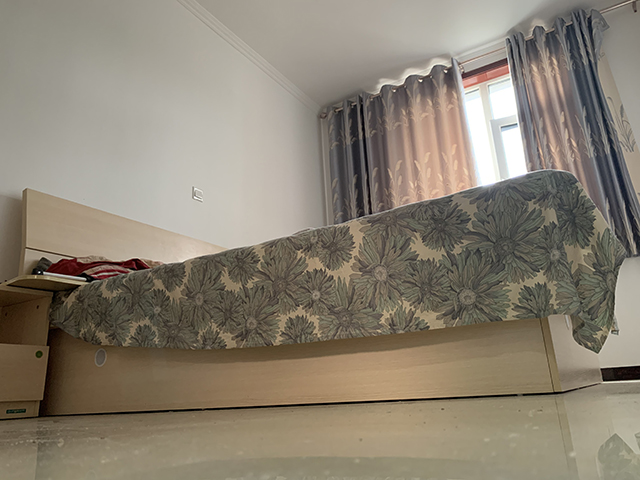bed: (15, 169, 629, 419)
cabinet: (1, 284, 54, 421)
